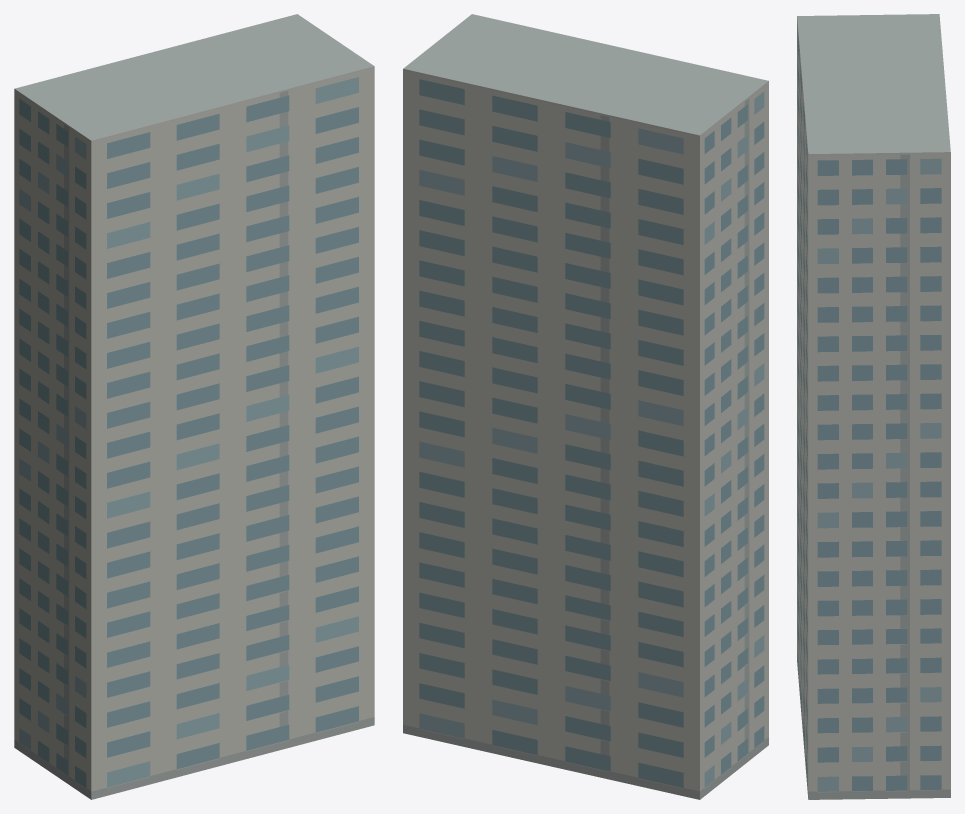
Rendered from residential-d6a1ffe4-4def-4f89-bffd-58e31eebfb74.glb.
3 views of the same model, side by side, from view 1: azimuth 30°, elevation 25°; view 2: azimuth 150°, elevation 25°; view 3: azimuth 270°, elevation 25° (orthographic). The views are drawn at different scales.
Parts seen in each view (by area): view 1: residential-d6a1ffe4-4def-4f89-bffd-58e31eebfb74.tmp; view 2: residential-d6a1ffe4-4def-4f89-bffd-58e31eebfb74.tmp; view 3: residential-d6a1ffe4-4def-4f89-bffd-58e31eebfb74.tmp.
Boxes of the visible parts, bbox=[...] form: residential-d6a1ffe4-4def-4f89-bffd-58e31eebfb74.tmp: bbox=[14, 14, 374, 799]; residential-d6a1ffe4-4def-4f89-bffd-58e31eebfb74.tmp: bbox=[403, 14, 768, 799]; residential-d6a1ffe4-4def-4f89-bffd-58e31eebfb74.tmp: bbox=[797, 14, 950, 799].
Bounding box in the file's own units: 40.96 × 88 × 18.99.
